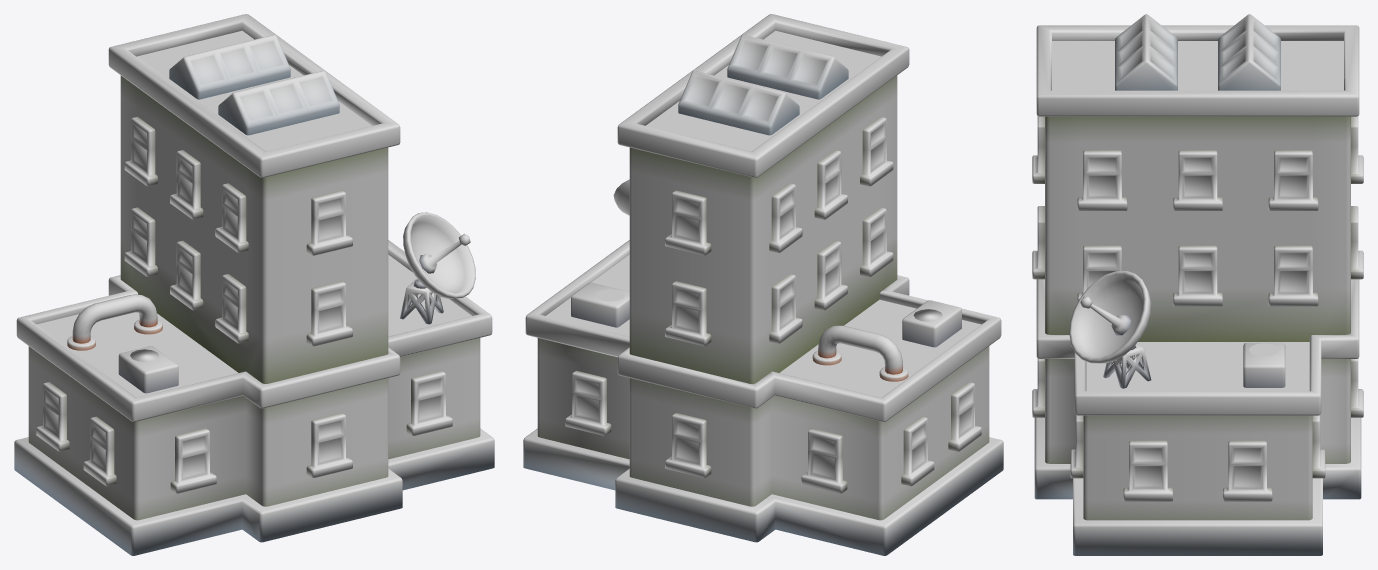
Rendered from Building_080.fbx.
3 renders of one model, left to right at view 1: azimuth 30°, elevation 25°; view 2: azimuth 150°, elevation 25°; view 3: azimuth 270°, elevation 25°, orthographic. The views are drawn at different scales.
Parts seen in each view (by area): view 1: Building_080; view 2: Building_080; view 3: Building_080.
Boxes of the visible parts, box(x1,y1,x2,y2) form: Building_080: box(14, 14, 494, 555); Building_080: box(523, 14, 1003, 555); Building_080: box(1032, 14, 1363, 555).
Bounding box in the file's own units: 1166 × 866 × 1229.
